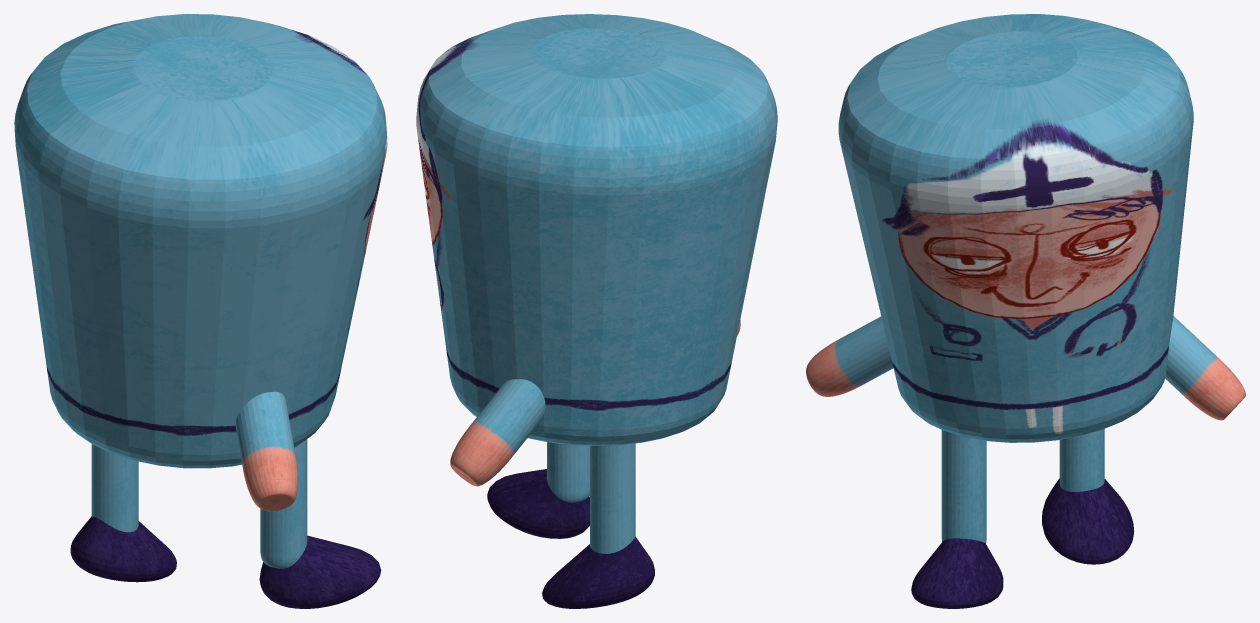
Rendered from nursewalk 1.fbx.
3 renders of one model, left to right at view 1: azimuth 30°, elevation 25°; view 2: azimuth 150°, elevation 25°; view 3: azimuth 270°, elevation 25°, orthographic. The views are drawn at different scales.
Visible parts, largest first — view 1: body, 锥体, arm1, 锥体.001, leg2, leg2.001; view 2: body, arm2, 锥体.001, leg2, 锥体, leg2.001; view 3: body, 锥体.001, 锥体, leg2.001, arm2, arm1, leg2.
Boxes of the visible parts, box(x1,y1,x2,y2) form: body: box(14, 14, 387, 468); 锥体: box(259, 535, 381, 608); arm1: box(235, 391, 298, 511); 锥体.001: box(70, 516, 176, 582); leg2: box(91, 444, 138, 532); leg2.001: box(260, 439, 307, 568); body: box(416, 14, 777, 445); arm2: box(450, 379, 545, 486); 锥体.001: box(542, 537, 654, 608); leg2: box(590, 443, 635, 553); 锥体: box(487, 469, 589, 538); leg2.001: box(547, 442, 589, 502); body: box(838, 14, 1193, 442); 锥体.001: box(1042, 478, 1134, 564); 锥体: box(911, 538, 1003, 608); leg2.001: box(941, 430, 986, 543); arm2: box(1165, 316, 1245, 420); arm1: box(806, 316, 893, 396); leg2: box(1059, 429, 1104, 491).
Size of the model in its own units: 241 by 379 by 298.
Materials: 5 (5 with a texture image).
